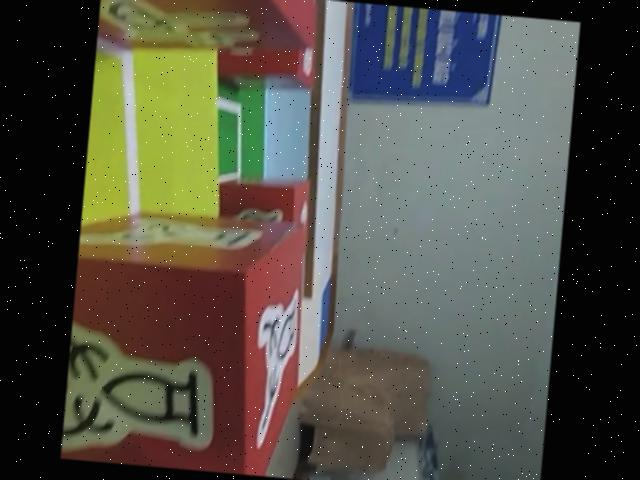R2 Real: (60, 205, 312, 478), (96, 0, 318, 66)
